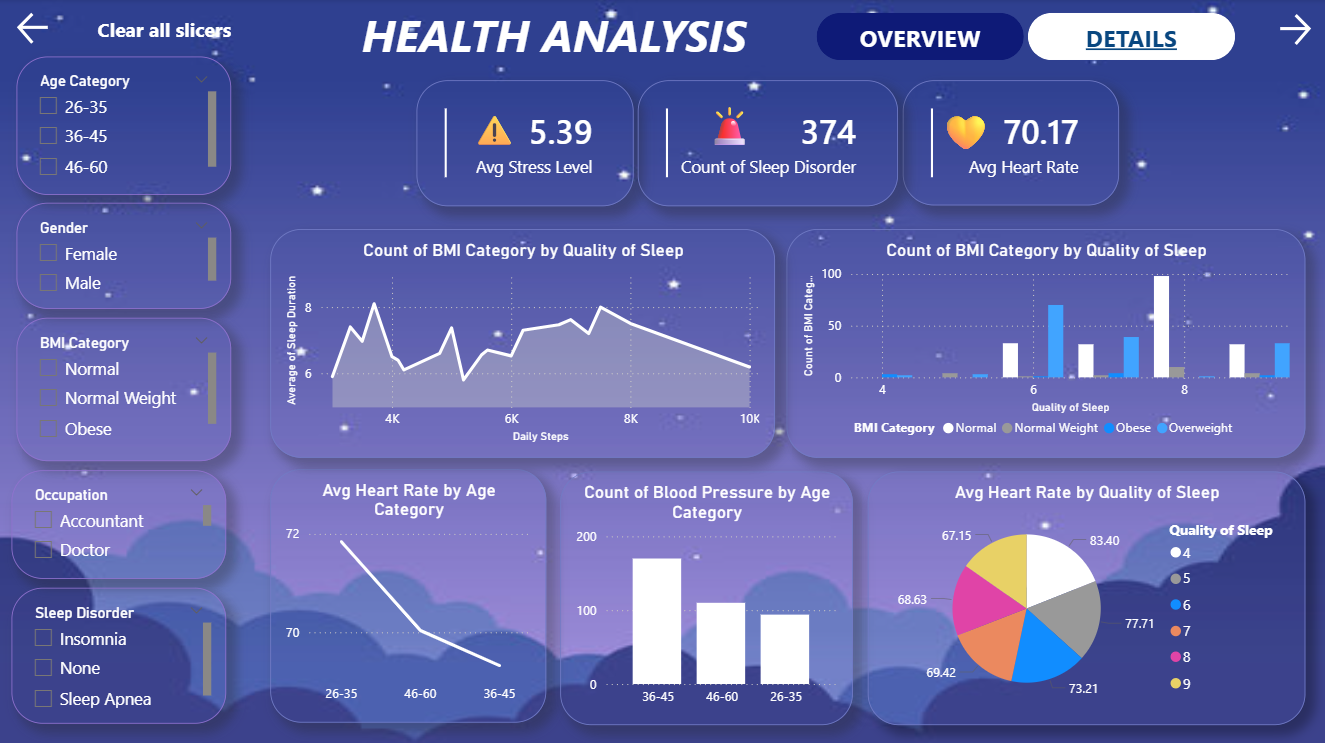

What the dashboard file says about the page in this screenshot:
{"tool":"powerbi","page":{"name":"Page 3","canvas":[1280,720],"ordinal":2},"visuals":[{"type":"lineChart","title":"Avg Heart Rate by Age Category","fields":{"Y":["Avg(Sheet1.Heart Rate)"],"Category":["Sheet1.Age Category"]},"box":[261.8,453.8,266.6,244.9],"z":0},{"type":"clusteredColumnChart","fields":{"Category":["Sheet1.Age Category"],"Y":["CountNonNull(Sheet1.Blood Pressure)"]},"box":[541.7,456.2,282.3,244.9],"z":1000},{"type":"actionButton","box":[13.3,8.4,43.4,39.8],"z":2000},{"type":"actionButton","box":[78.4,4.4,162.5,49.3],"z":3000},{"type":"cardVisual","fields":{"Data":["Avg(Sheet1.Stress Level)"]},"box":[403.2,78.4,209.4,121.9],"z":4000,"group":"g1"},{"type":"cardVisual","fields":{"Data":["Avg(Sheet1.Heart Rate)"]},"box":[872.5,78.4,209,121],"z":4000},{"type":"shape","box":[789,13.3,200.3,45.8],"z":10000},{"type":"textbox","box":[674.9,91.7,51.9,62.7],"z":10000,"group":"g2"},{"type":"shape","box":[992.9,13.3,200.3,45.8],"z":11000},{"type":"textbox","box":[345,0,392.1,68.8],"z":12000},{"type":"clusteredColumnChart","title":"Count of BMI Category by Quality of Sleep","fields":{"Category":["Sheet1.Quality of Sleep"],"Y":["CountNonNull(Sheet1.BMI Category)"],"Series":["Sheet1.BMI Category"]},"box":[760.1,222,500.7,220.8],"z":13000},{"type":"group","id":"g1","title":"Group 4","box":[403.2,78.4,209.9,121.9],"z":14000},{"type":"textbox","box":[451.2,96.5,63.9,53.1],"z":15000},{"type":"textbox","box":[902.6,95.3,61.5,65.1],"z":16000},{"type":"areaChart","title":"Count of BMI Category by Quality of Sleep","fields":{"Category":["Sheet1.Daily Steps"],"Y":["Avg(Sheet1.Sleep Duration)"]},"box":[261.8,222,487.4,220.8],"z":17000},{"type":"cardVisual","fields":{"Data":["CountNonNull(Sheet1.Sleep Disorder)"]},"box":[616.8,78.4,250.9,121.9],"z":18000},{"type":"group","id":"g2","title":"Group 7","box":[674.9,91.7,51.9,62.7],"z":19000},{"type":"pieChart","fields":{"Category":["Sheet1.Quality of Sleep"],"Y":["Avg(Sheet1.Heart Rate)"]},"box":[838.5,456,422.3,244.9],"z":20000},{"type":"actionButton","box":[1230.6,9.7,42.2,39.8],"z":21000},{"type":"actionButton","box":[343.8,13.3,384.9,44.6],"z":22000},{"type":"slicer","fields":{"Values":["Sheet1.Age Category"]},"box":[16.9,55.5,207.5,133.9],"z":22001},{"type":"slicer","fields":{"Values":["Sheet1.Gender"]},"box":[16.9,196.6,207.5,102.5],"z":22002},{"type":"slicer","fields":{"Values":["Sheet1.BMI Category"]},"box":[16.9,307.6,207.5,138.7],"z":22003},{"type":"slicer","fields":{"Values":["Sheet1.Occupation"]},"box":[12.1,454.8,207.5,105],"z":22004},{"type":"slicer","fields":{"Values":["Sheet1.Sleep Disorder"]},"box":[12.1,568.2,207.5,131.5],"z":22005}]}

Visuals, with their boxes in screenshot pixels (x1, y1, x2, y2), scaled from the page's 1280x720 canvas onto the 1325x743 screenshot:
"Avg Heart Rate by Age Category" lineChart: locate(271, 468, 547, 721)
clusteredColumnChart - Sheet1.Age Category x CountNonNull(Sheet1.Blood Pressure): locate(561, 471, 853, 723)
actionButton: locate(14, 9, 59, 50)
actionButton: locate(81, 5, 249, 55)
cardVisual - Avg(Sheet1.Stress Level): locate(417, 81, 634, 207)
cardVisual - Avg(Sheet1.Heart Rate): locate(903, 81, 1120, 206)
shape: locate(817, 14, 1024, 61)
textbox: locate(699, 95, 752, 159)
shape: locate(1028, 14, 1235, 61)
textbox: locate(357, 0, 763, 71)
"Count of BMI Category by Quality of Sleep" clusteredColumnChart: locate(787, 229, 1305, 457)
"Group 4" group: locate(417, 81, 635, 207)
textbox: locate(467, 100, 533, 154)
textbox: locate(934, 98, 998, 166)
"Count of BMI Category by Quality of Sleep" areaChart: locate(271, 229, 776, 457)
cardVisual - CountNonNull(Sheet1.Sleep Disorder): locate(638, 81, 898, 207)
"Group 7" group: locate(699, 95, 752, 159)
pieChart - Sheet1.Quality of Sleep x Avg(Sheet1.Heart Rate): locate(868, 471, 1305, 723)
actionButton: locate(1274, 10, 1318, 51)
actionButton: locate(356, 14, 754, 60)
slicer - Sheet1.Age Category: locate(17, 57, 232, 195)
slicer - Sheet1.Gender: locate(17, 203, 232, 309)
slicer - Sheet1.BMI Category: locate(17, 317, 232, 461)
slicer - Sheet1.Occupation: locate(13, 469, 227, 578)
slicer - Sheet1.Sleep Disorder: locate(13, 586, 227, 722)
